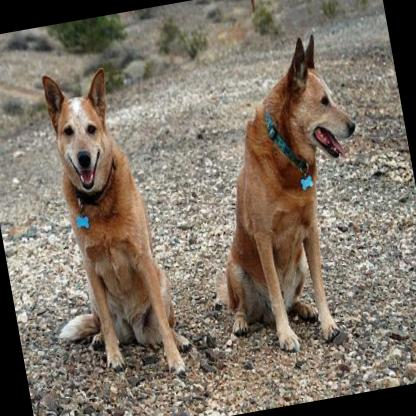dingo: (172, 27, 390, 362), (11, 55, 196, 394)
